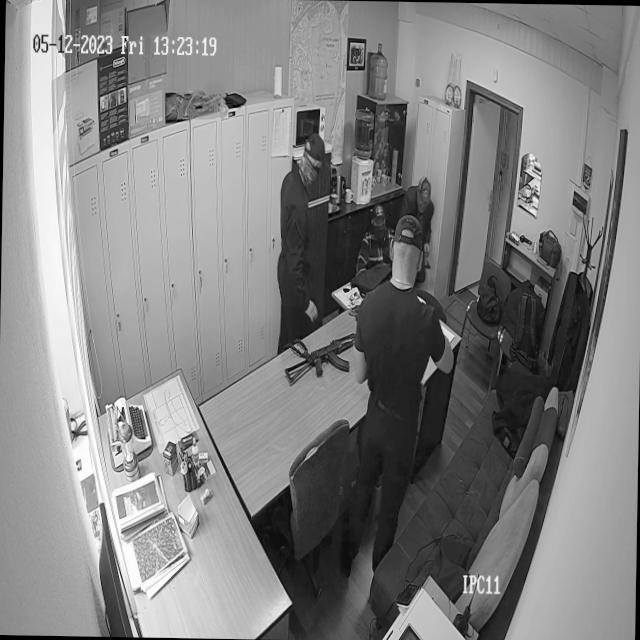gun: (286, 324, 361, 385)
person: (354, 196, 452, 571), (278, 128, 336, 302)
